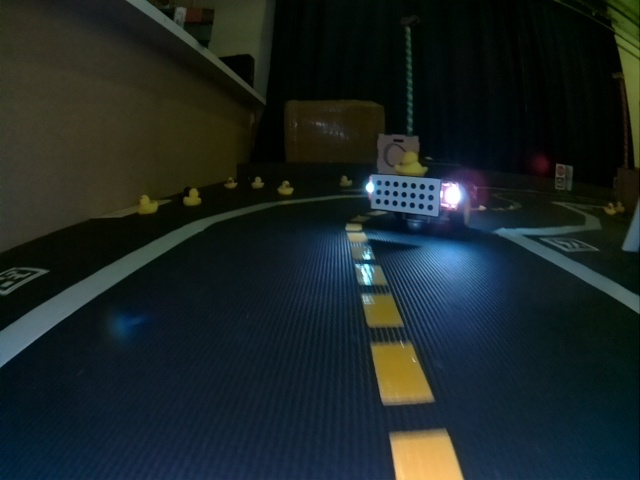Duckie: (395, 151, 426, 174), (138, 195, 157, 213), (183, 188, 200, 204), (278, 180, 294, 194), (225, 176, 237, 188), (340, 174, 352, 185), (251, 176, 262, 186)
Duckiebot: (367, 168, 476, 228)
